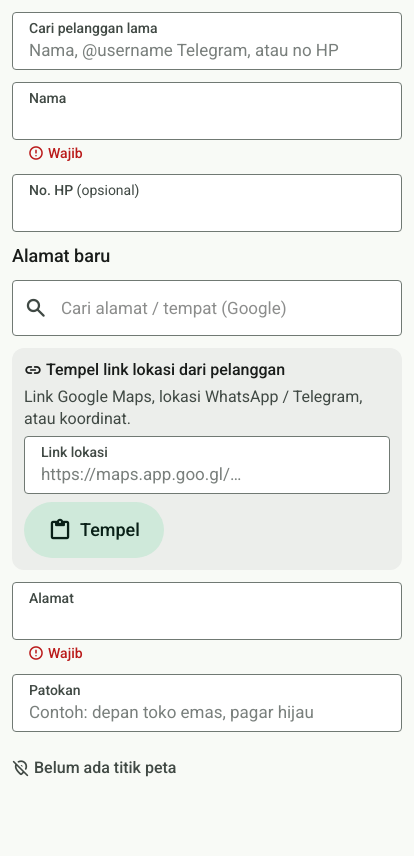
Test: Data pengantaran: cari pelanggan & alamat › tidak ditemukan → isi pelanggan baru; link bukan lokasi → pesan jelas; ganti pelanggan mengosongkan
This screenshot has width=414, height=856.
Type "zzz" into the search field labelled "Cari pelanggan lama" at (207, 41), box [13,13,401,69]
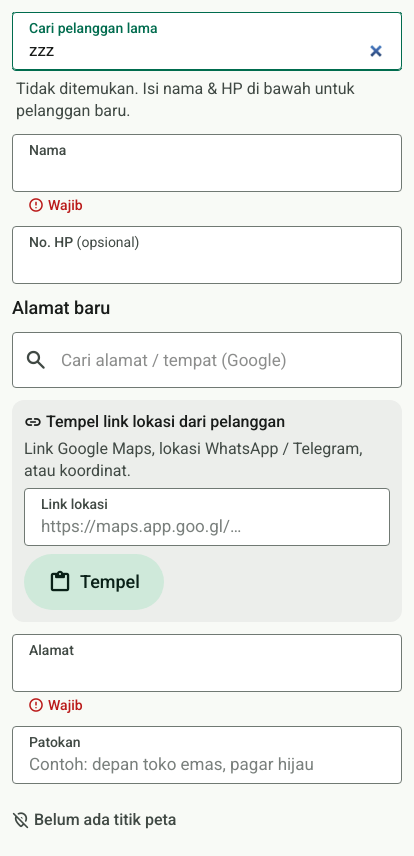
Check: the text "Tidak ditemukan. Isi nama & HP di bawah untuk pelanggan baru." is shown, box [12,78,402,122]
Type "https://example.com/abc" into the field labelled "Link lokasi" at (207, 517), box [25,489,389,545]
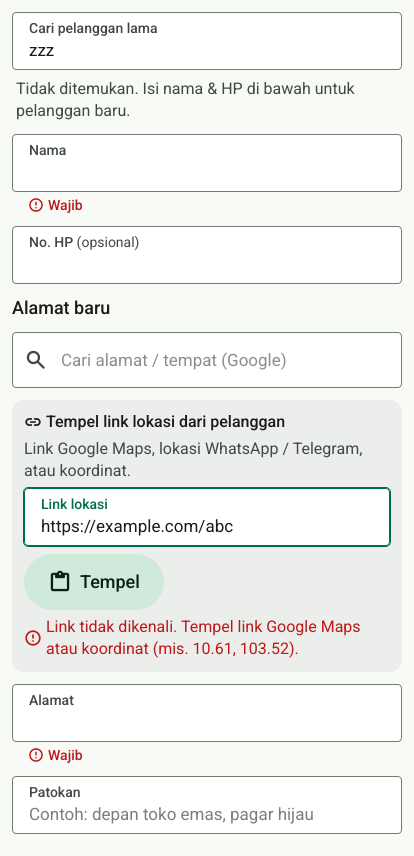
Check: the 2nd message shows "Link tidak dikenali", box [46,617,361,658]
